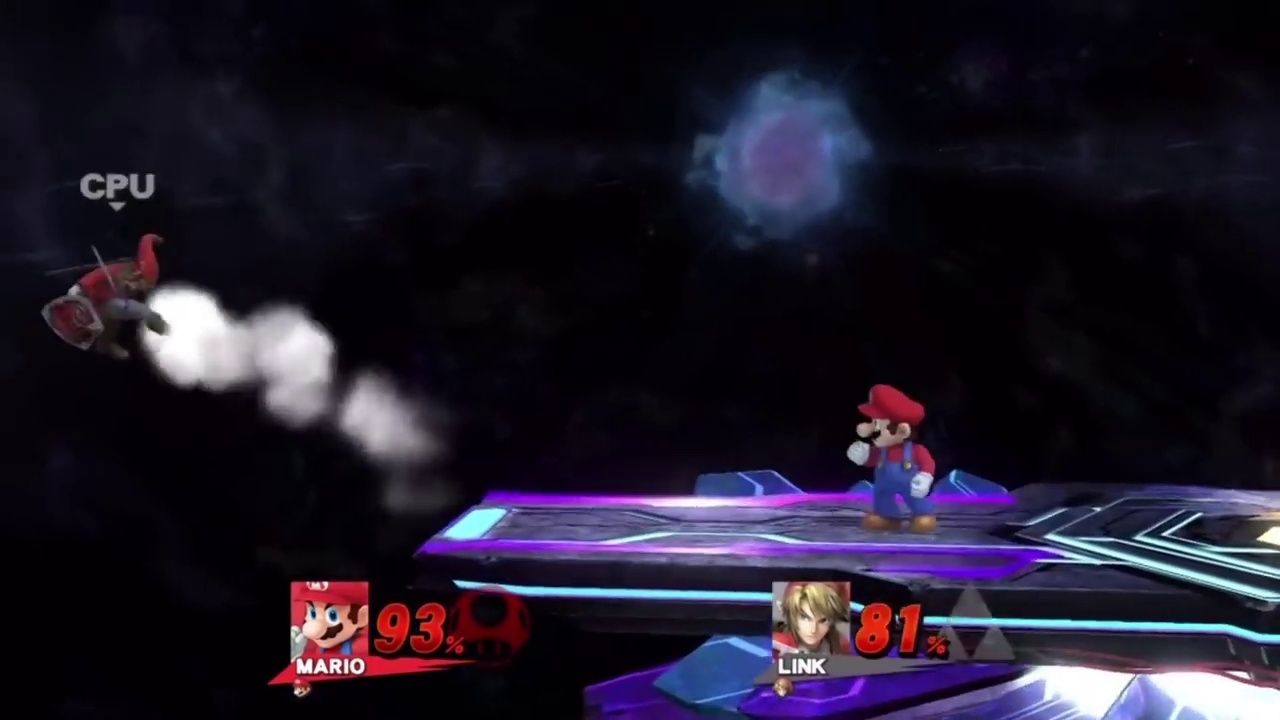Mario: (844, 382, 939, 531)
